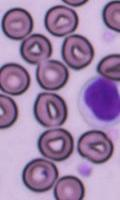L: (77, 74, 120, 127)
